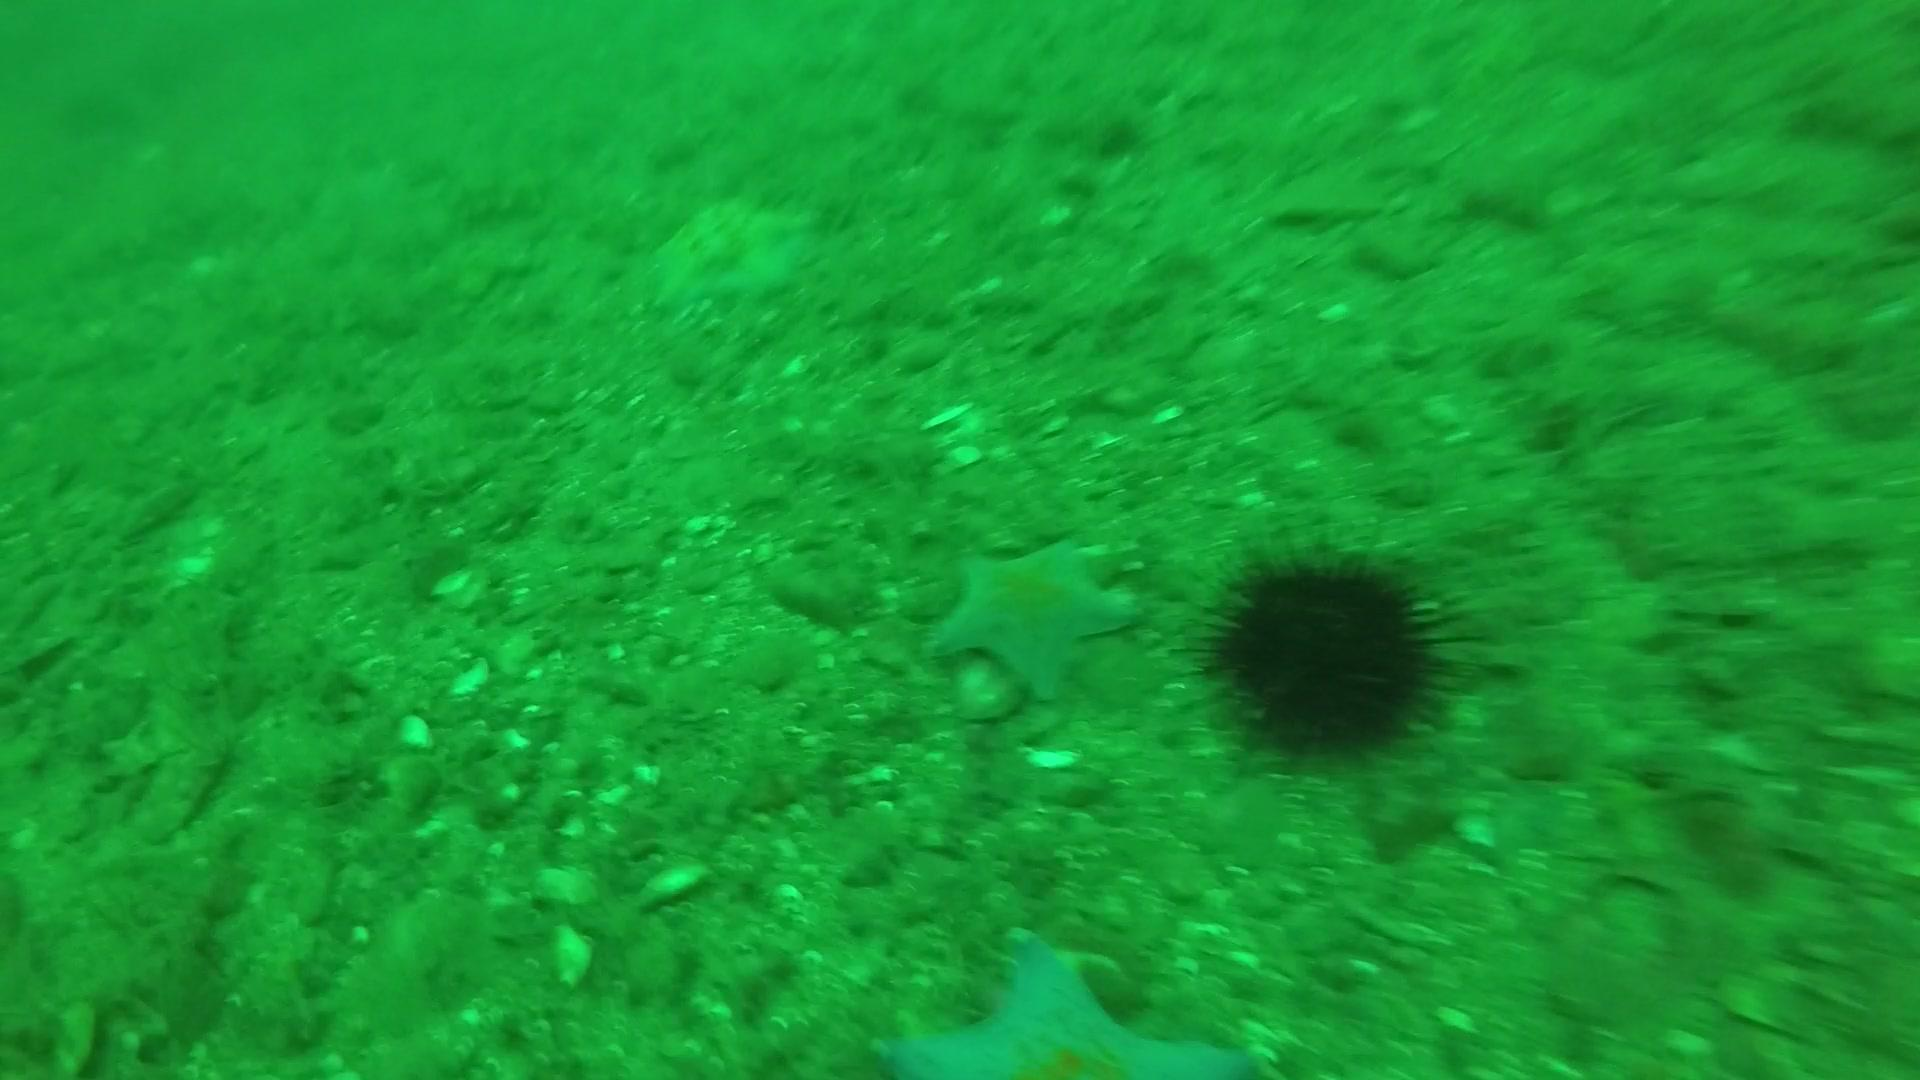urchin: (1216, 539, 1433, 753)
